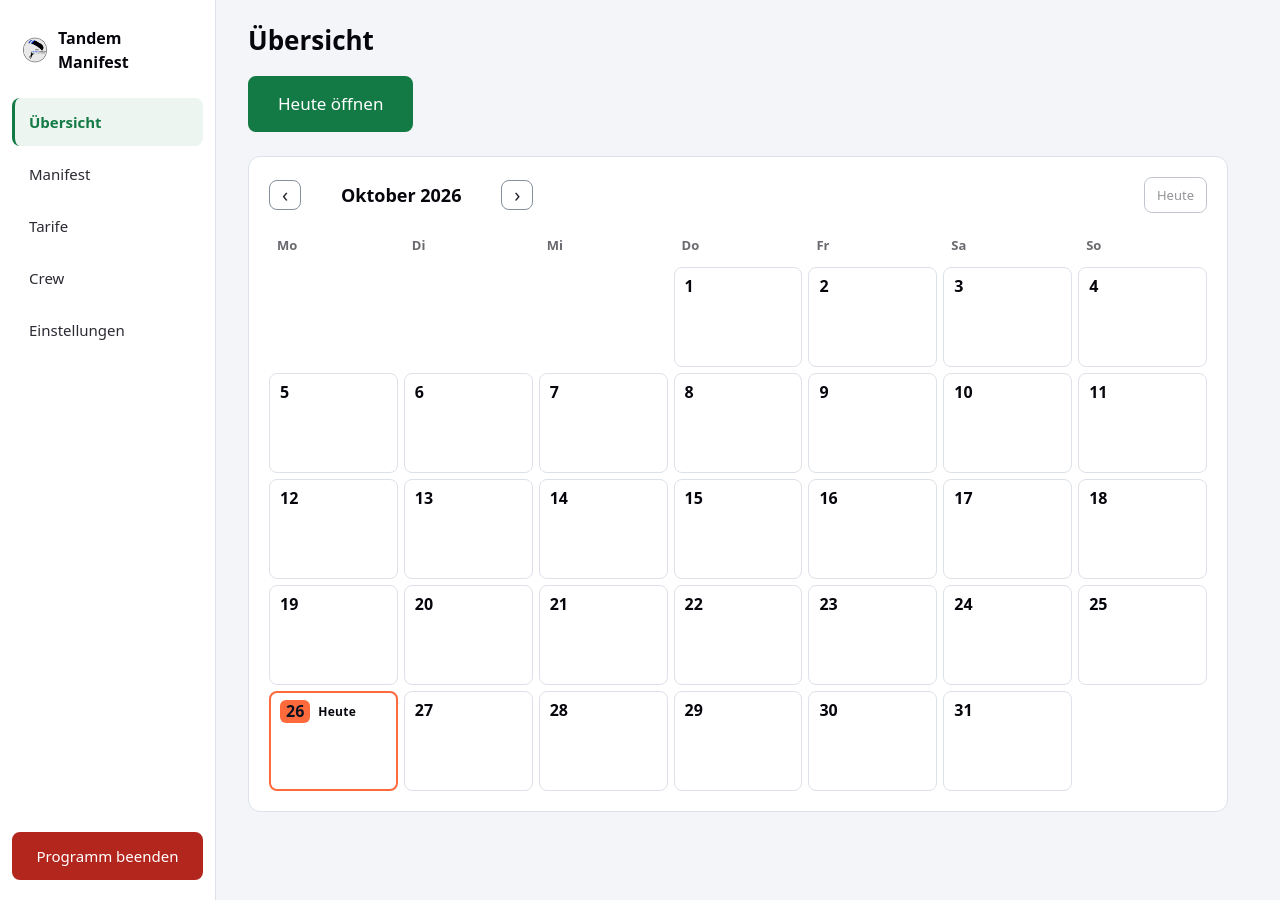
Test: App › "Heute öffnen" opens the manifest on today
This screenshot has width=1280, height=900.
Click the button "Heute öffnen" at (331, 104), box [248,76,413,132]
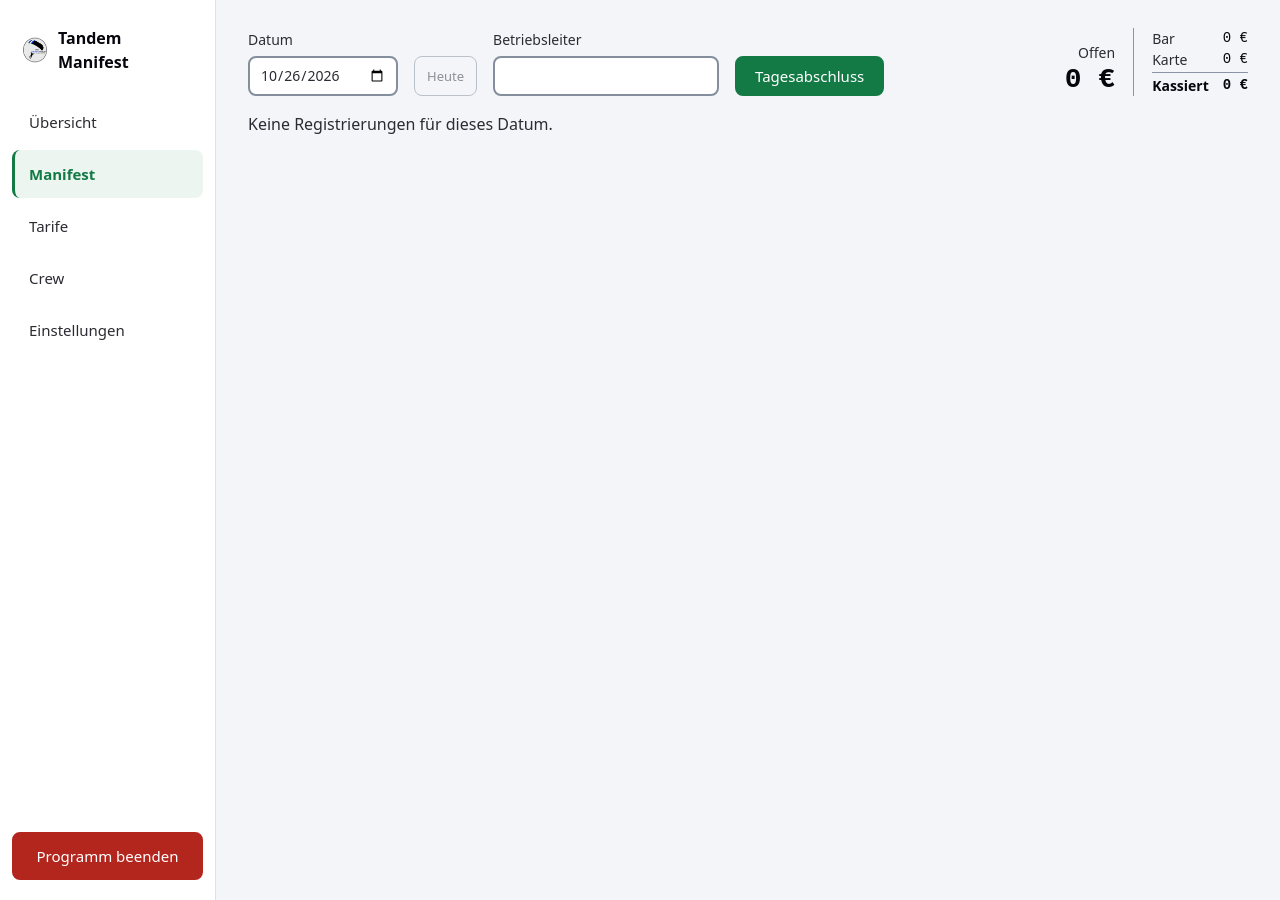
expect the text "Keine Registrierungen für dieses Datum." is shown: met, box [248,113,553,135]
